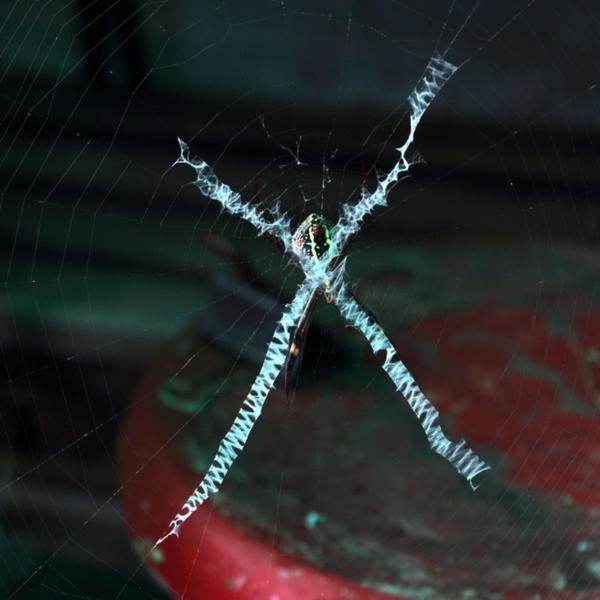St Andrew's Cross Spider: (271, 181, 392, 402)
